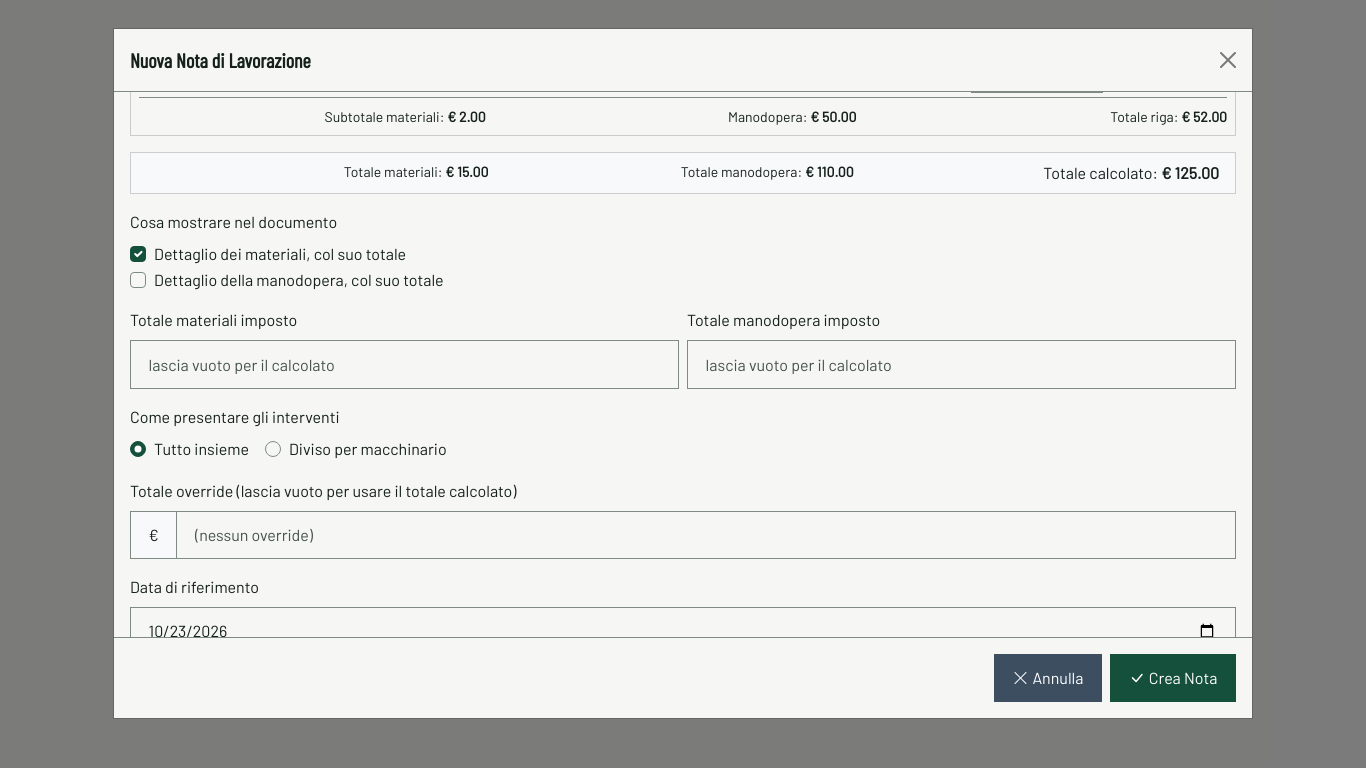
it: NotaLavorazioneFormModal — i dettagli seguono i totali imposti › zero spegne il dettaglio come qualunque altro valore
(page scrolled)
Type "0" into the number field with test id "override-materiali" at (404, 365), box [130,340,679,389]
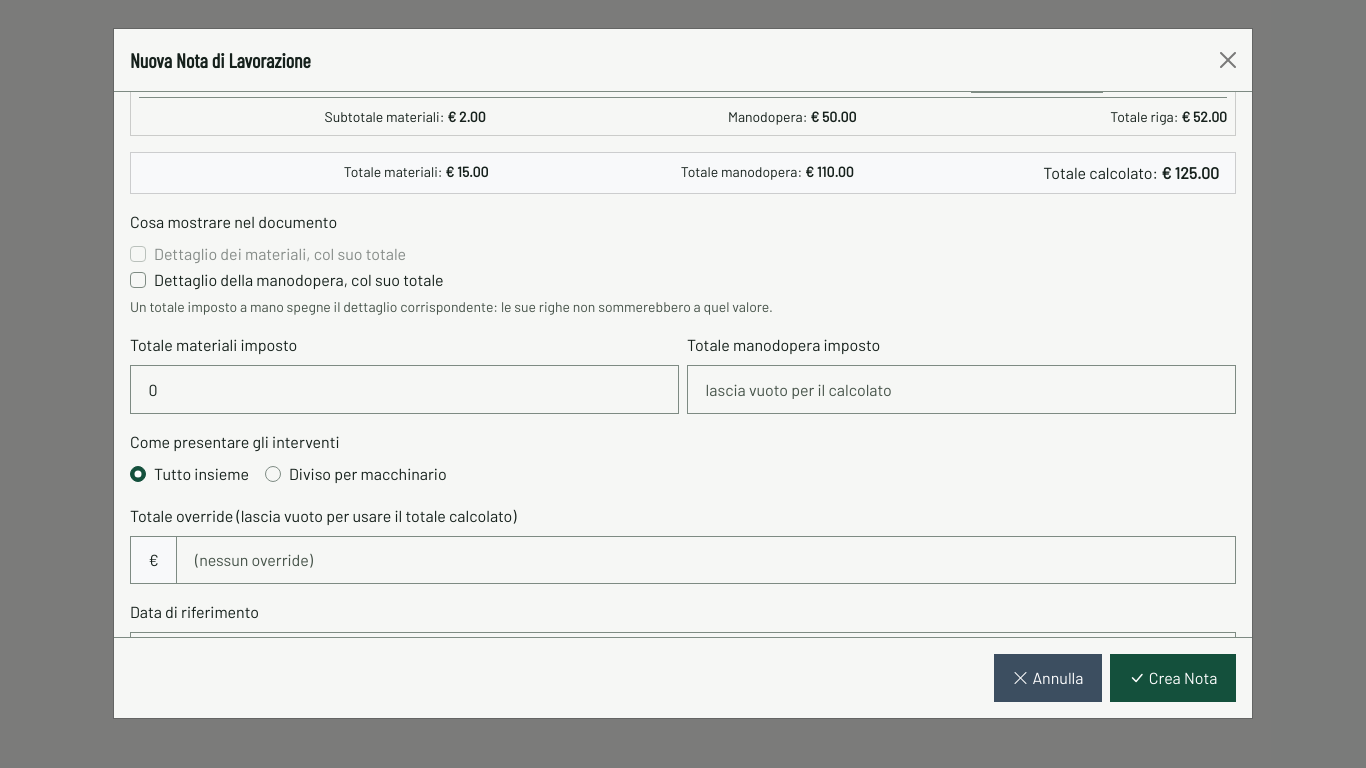
Expected: the checkbox with test id "dettaglio-materiali" is disabled, [130,246,146,262]
